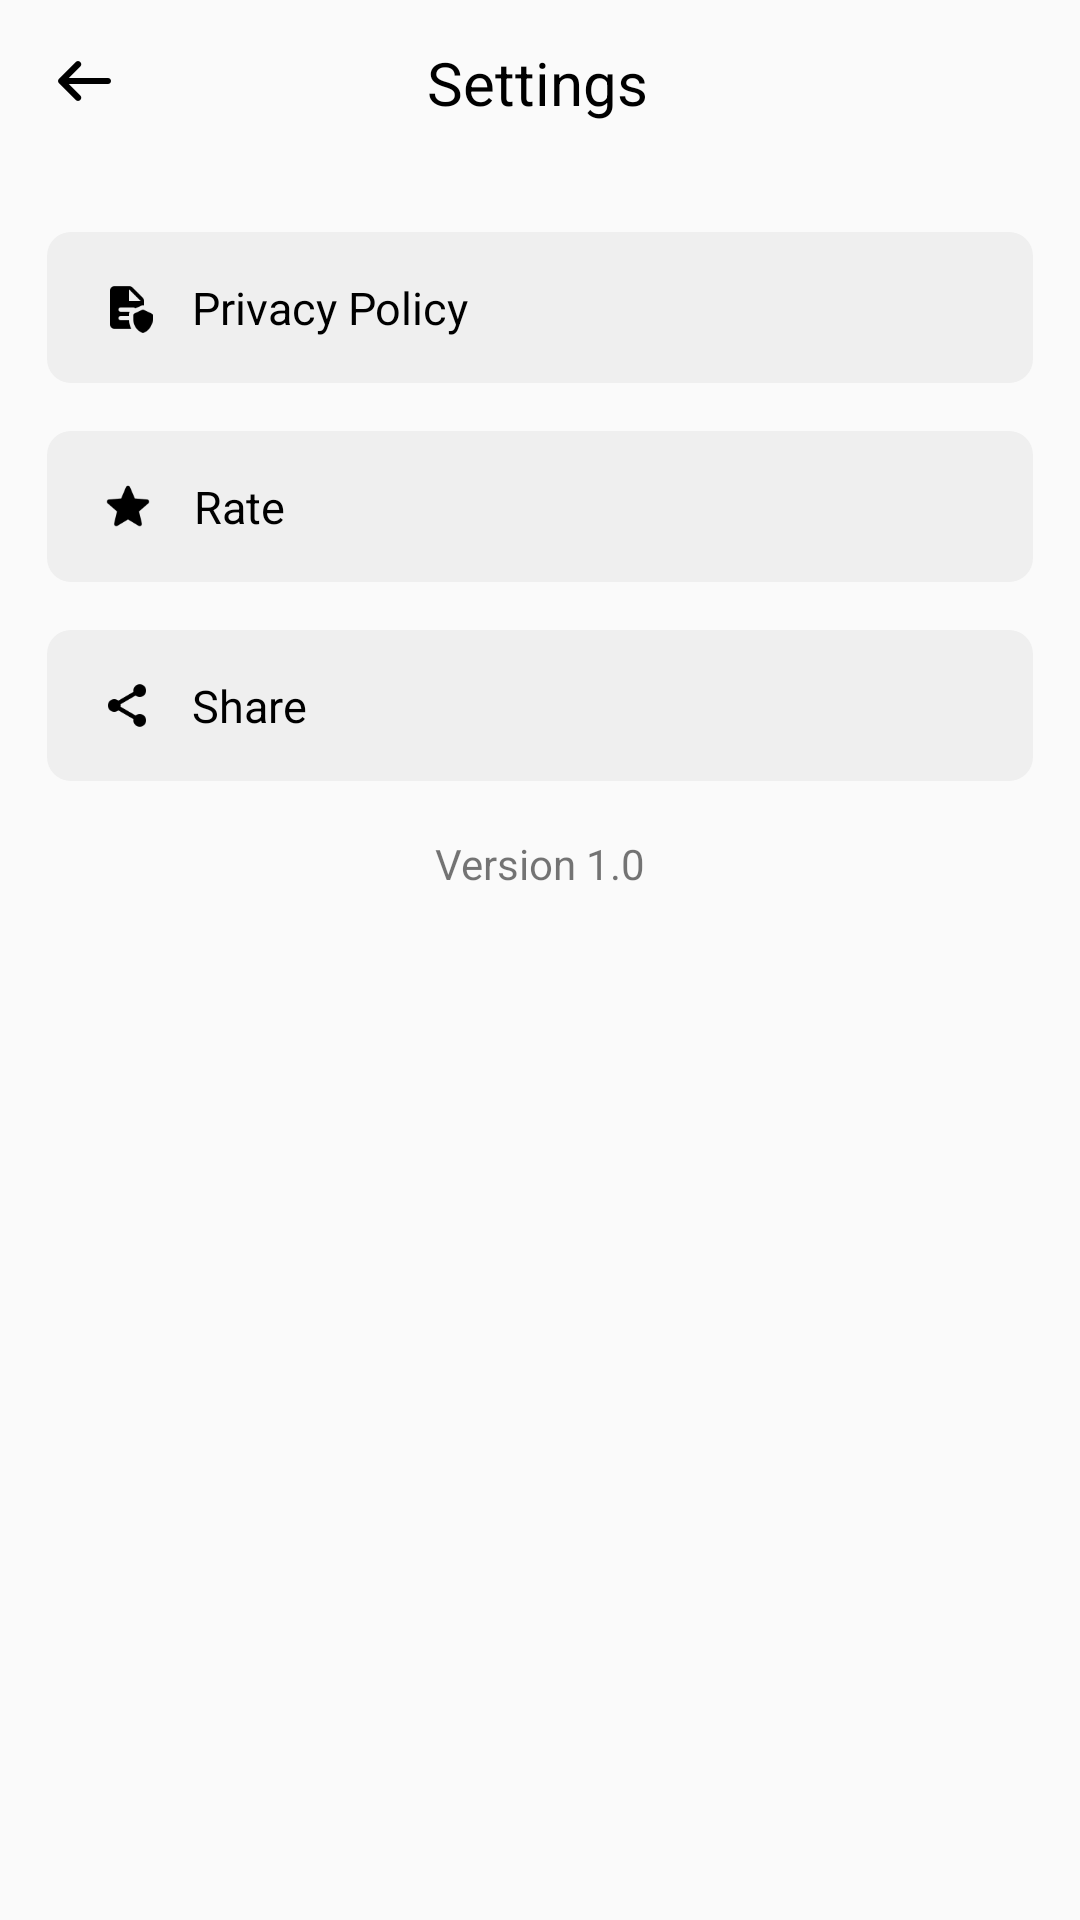

Point at icon controls on the screen. Image size 1080*1920, points as [x,y].
back: [84,81]
star: [128,506]
